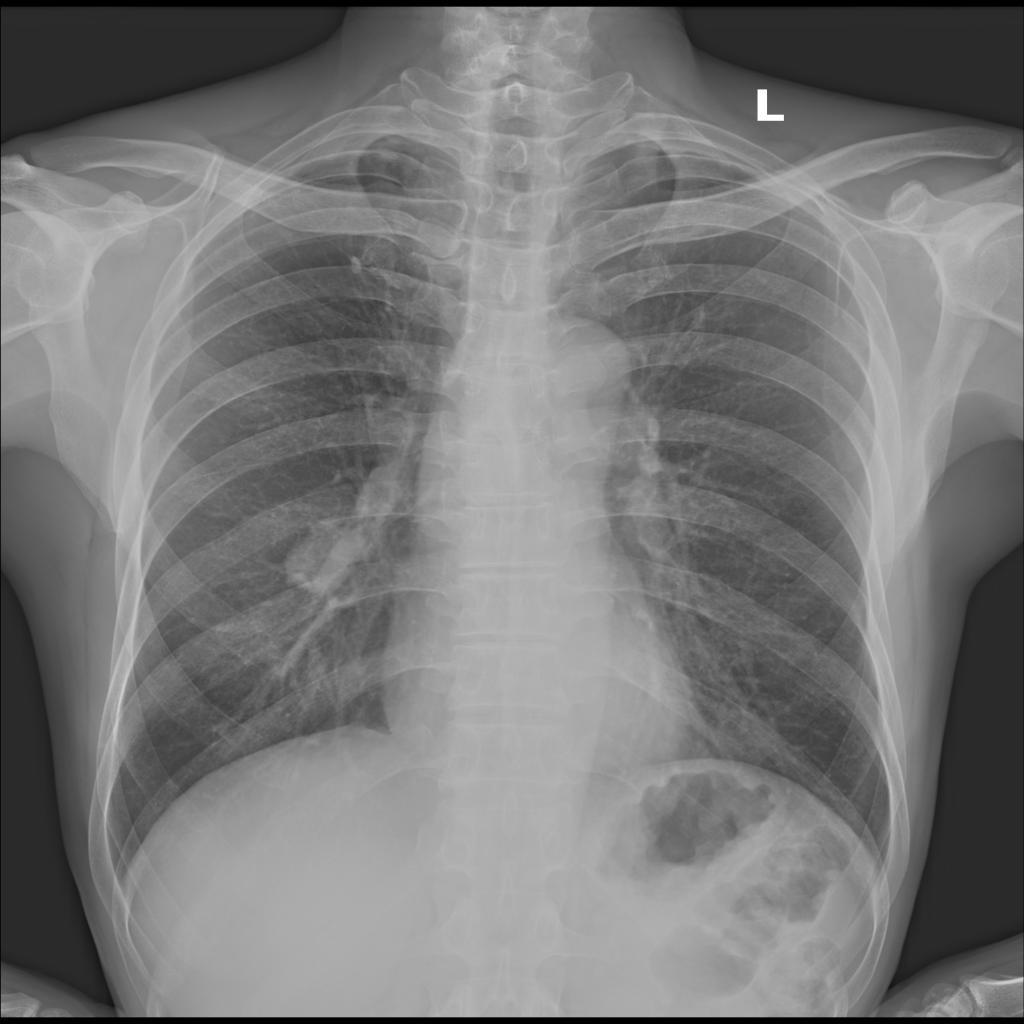Nodule: (285, 522, 370, 598), (352, 256, 362, 277)
